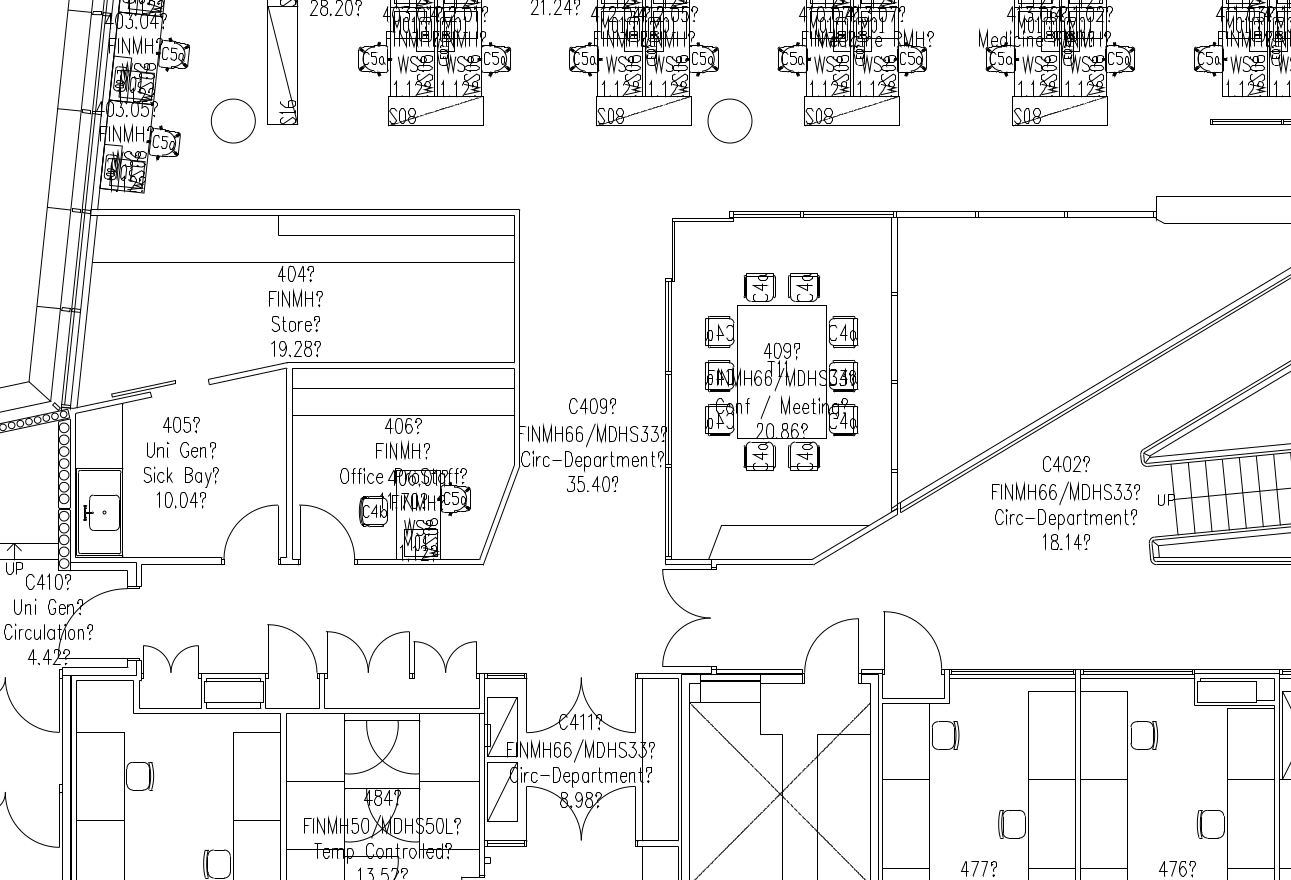door: (55, 585, 125, 660), (880, 595, 950, 670), (794, 593, 864, 668), (322, 625, 411, 681), (211, 499, 283, 566), (5, 665, 61, 739), (6, 779, 62, 853), (523, 667, 579, 741), (581, 666, 637, 740), (297, 500, 356, 565), (652, 565, 723, 617), (650, 616, 721, 668), (411, 627, 482, 679), (260, 620, 319, 677), (142, 624, 201, 681)
